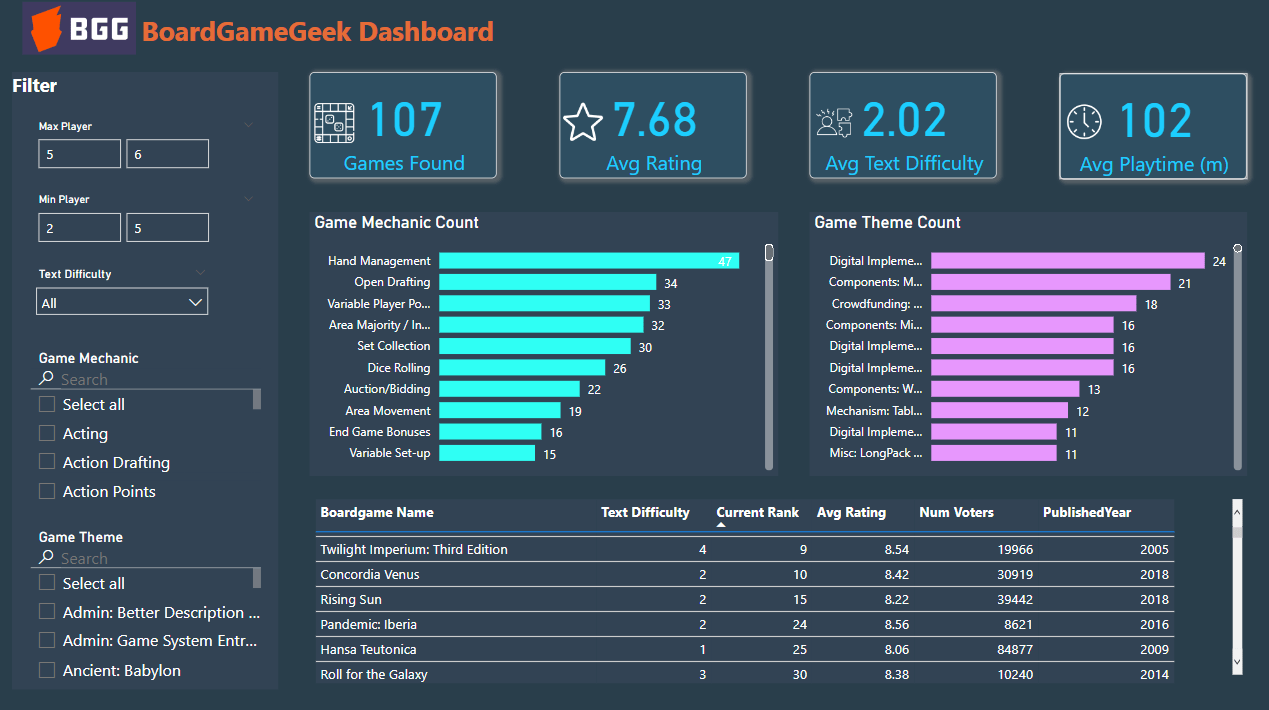

The dashboard page shown, as its layout file describes it:
{"tool":"powerbi","page":{"name":"Main Page","canvas":[1280,720],"ordinal":0},"visuals":[{"type":"shape","box":[15,75,266.2,617.5],"z":0},{"type":"tableEx","fields":{"Values":["boardgame.name","Sum(boardgame.difficulty_based_on_text)","Sum(boardgame.rank)","Sum(boardgame.avg_rating)","Sum(boardgame.num_voters)","Sum(boardgame.yearpublished)"]},"box":[312.5,497.5,937.5,193.8],"z":1000},{"type":"slicer","fields":{"Values":["boardgame.maxplayers"]},"box":[28.8,117.5,240,60],"z":2000},{"type":"slicer","fields":{"Values":["boardgame.minplayers"]},"box":[28.8,191.2,240,60],"z":3000},{"type":"slicer","fields":{"Values":["boardgame.language_dependence"]},"box":[28.8,265,192.5,60],"z":4000},{"type":"card","fields":{"Values":["Avg(boardgame.avg_rating)"]},"box":[562.5,75,187.5,106.2],"z":5000},{"type":"card","fields":{"Values":["Avg(boardgame.difficulty_based_on_text)"]},"box":[812.5,75,187.5,106.2],"z":6000},{"type":"slicer","fields":{"Values":["boardgamemechanic.boardgamemechanic_name"]},"box":[28.8,347.5,240,167.5],"z":7000},{"type":"slicer","fields":{"Values":["boardgamefamily.boardgamefamily_name"]},"box":[28.6,525.7,240,165.7],"z":8000},{"type":"clusteredBarChart","title":"Game Mechanic Count","fields":{"Category":["boardgamemechanic.boardgamemechanic_name"],"Y":["CountNonNull(bridge_boardgamemechanic.game_id)"]},"box":[312.5,215,468.8,263.8],"z":9000},{"type":"clusteredBarChart","title":"Game Theme Count","fields":{"Category":["boardgamefamily.boardgamefamily_name"],"Y":["CountNonNull(bridge_boardgamefamily.game_id)"]},"box":[812.5,215,437.5,263.8],"z":10000},{"type":"card","fields":{"Values":["Avg(boardgame.playingtime)"]},"box":[1062.5,76.2,187.5,106.2],"z":11000},{"type":"card","fields":{"Values":["CountNonNull(boardgame.game_id)"]},"box":[312.5,75,187.5,106.2],"z":12000},{"type":"image","box":[15,0,133.8,62.5],"z":13000},{"type":"textbox","box":[120.8,9.5,428.8,46.2],"z":14000},{"type":"image","box":[313,101,50,50],"z":15000},{"type":"image","box":[561.8,100,50,50],"z":16000},{"type":"image","box":[812.5,101.2,50,50],"z":17000},{"type":"image","box":[1062.5,100,50,50],"z":18000}]}

Visuals, with their boxes in screenshot pixels (x1, y1, x2, y2), scaled from the page's 1280x720 canvas onto the 1269x710 screenshot:
shape: left=15, top=74, right=279, bottom=683
tableEx - boardgame.name x Sum(boardgame.difficulty_based_on_text): left=310, top=491, right=1239, bottom=682
slicer - boardgame.maxplayers: left=29, top=116, right=266, bottom=175
slicer - boardgame.minplayers: left=29, top=189, right=266, bottom=248
slicer - boardgame.language_dependence: left=29, top=261, right=219, bottom=320
card - Avg(boardgame.avg_rating): left=558, top=74, right=744, bottom=179
card - Avg(boardgame.difficulty_based_on_text): left=806, top=74, right=991, bottom=179
slicer - boardgamemechanic.boardgamemechanic_name: left=29, top=343, right=266, bottom=508
slicer - boardgamefamily.boardgamefamily_name: left=28, top=518, right=266, bottom=682
"Game Mechanic Count" clusteredBarChart: left=310, top=212, right=775, bottom=472
"Game Theme Count" clusteredBarChart: left=806, top=212, right=1239, bottom=472
card - Avg(boardgame.playingtime): left=1053, top=75, right=1239, bottom=180
card - CountNonNull(boardgame.game_id): left=310, top=74, right=496, bottom=179
image: left=15, top=0, right=148, bottom=62
textbox: left=120, top=9, right=545, bottom=55
image: left=310, top=100, right=360, bottom=149
image: left=557, top=99, right=607, bottom=148
image: left=806, top=100, right=855, bottom=149
image: left=1053, top=99, right=1103, bottom=148
